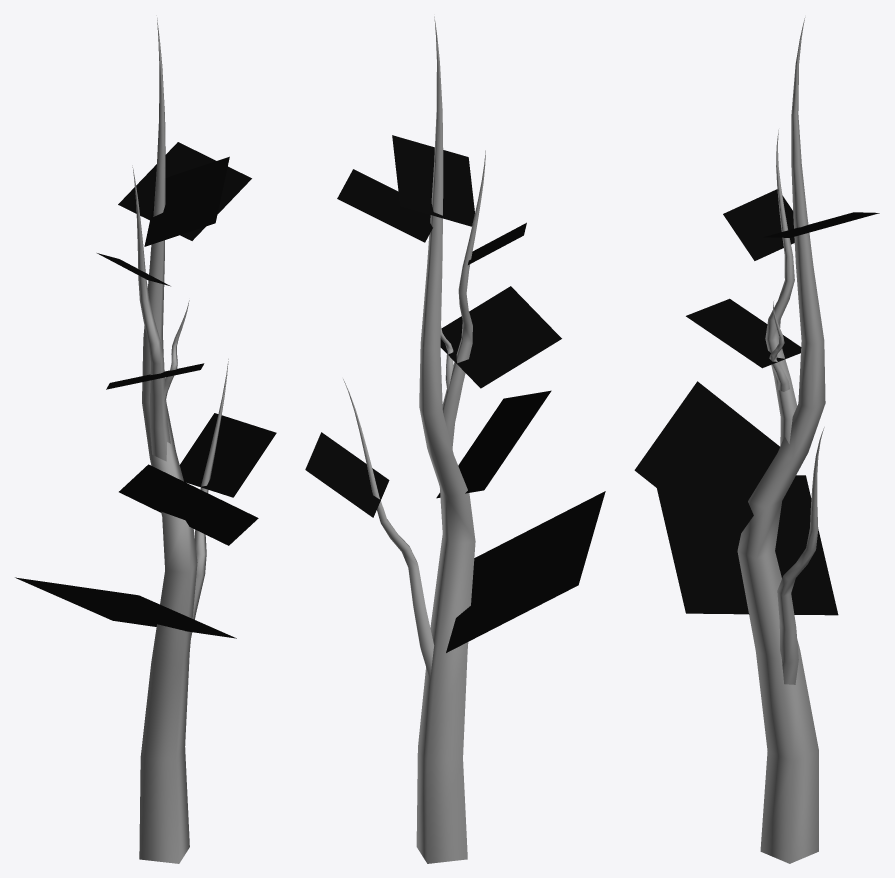
File: branche.fbx
3 renders of one model, left to right at view 1: azimuth 30°, elevation 25°; view 2: azimuth 150°, elevation 25°; view 3: azimuth 270°, elevation 25°, orthographic.
Parts seen in each view (by area): view 1: branche1; view 2: branche1; view 3: branche1.
Boxes of the visible parts, bbox=[...] form: branche1: bbox=[15, 15, 276, 863]; branche1: bbox=[305, 16, 605, 863]; branche1: bbox=[634, 17, 879, 863].
Bounding box in the file's own units: 87.71 × 270 × 72.04.
